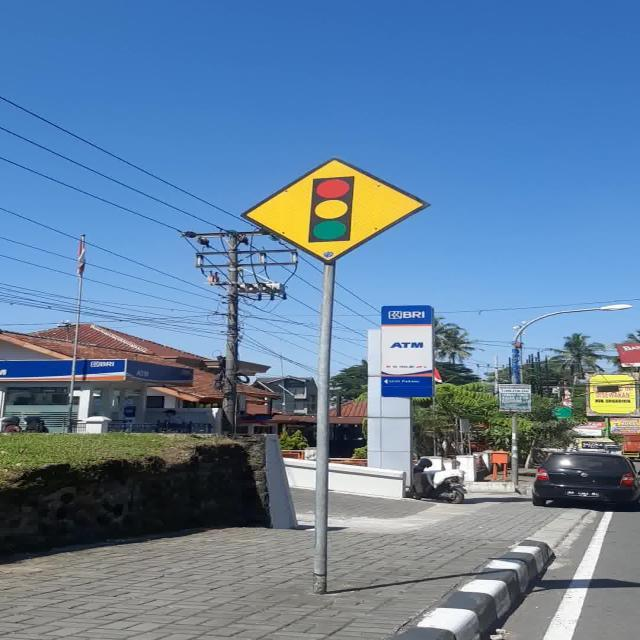Lampu Lalu Lintas: (240, 157, 430, 265)
